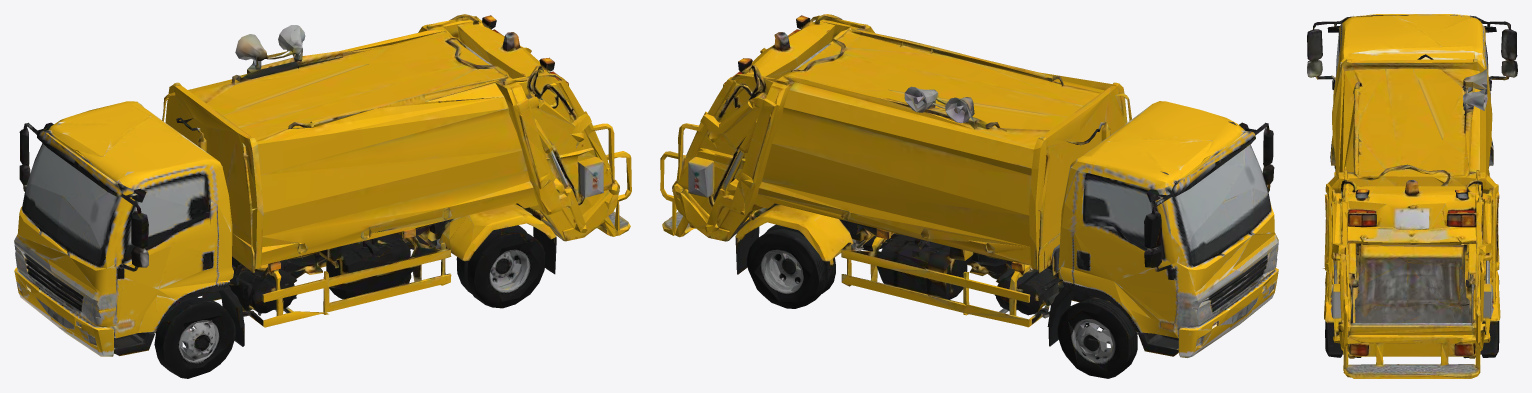
Rendered from garbage_truck.glb.
3 renders of one model, left to right at view 1: azimuth 30°, elevation 25°; view 2: azimuth 150°, elevation 25°; view 3: azimuth 270°, elevation 25°, orthographic. The views are drawn at different scales.
Parts seen in each view (by area): view 1: Mesh_0; view 2: Mesh_0; view 3: Mesh_0.
Boxes of the visible parts, x1=… form: Mesh_0: x1=14, y1=14, x2=631, y2=378; Mesh_0: x1=660, y1=14, x2=1278, y2=378; Mesh_0: x1=1307, y1=14, x2=1517, y2=378.
Bounding box in the file's own units: 1.9 × 0.8252 × 0.7405.
Materials: 1 (1 with a texture image).
